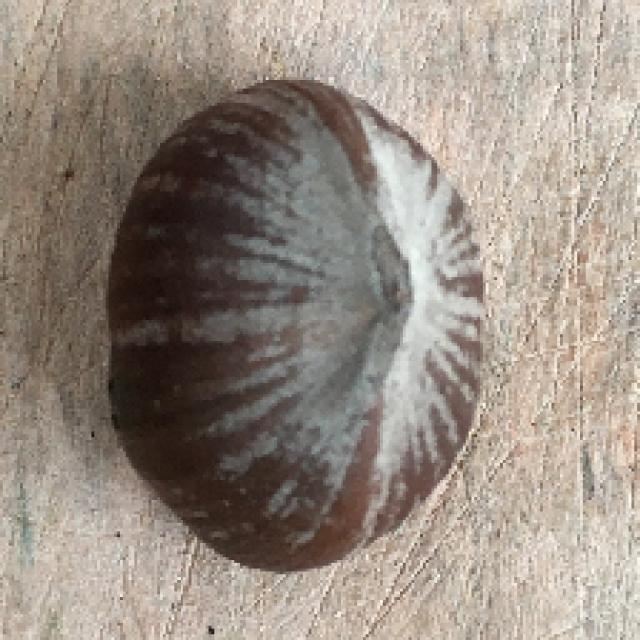damagedHazelnut: (97, 73, 493, 573)
